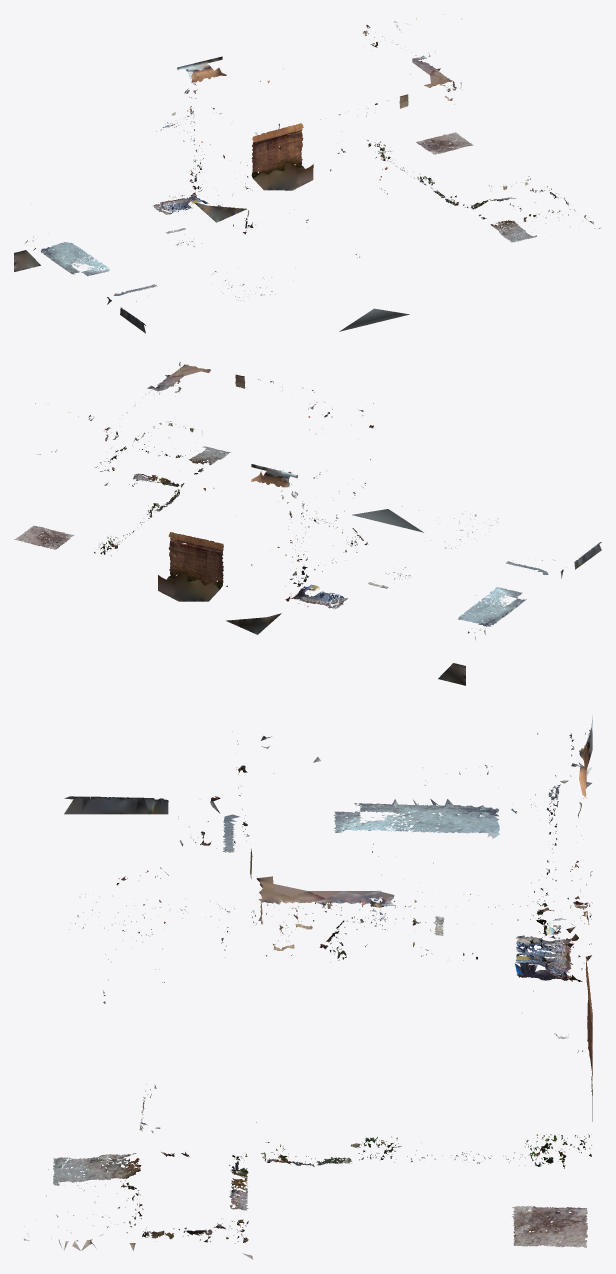
3 views of the same model, one above another, from view 1: azimuth 30°, elevation 25°; view 2: azimuth 150°, elevation 25°; view 3: azimuth 270°, elevation 25° (orthographic). The views are drawn at different scales.
Bounding box in the file's own units: 11.17 × 3.93 × 6.15.
1 material, 1 textured.
